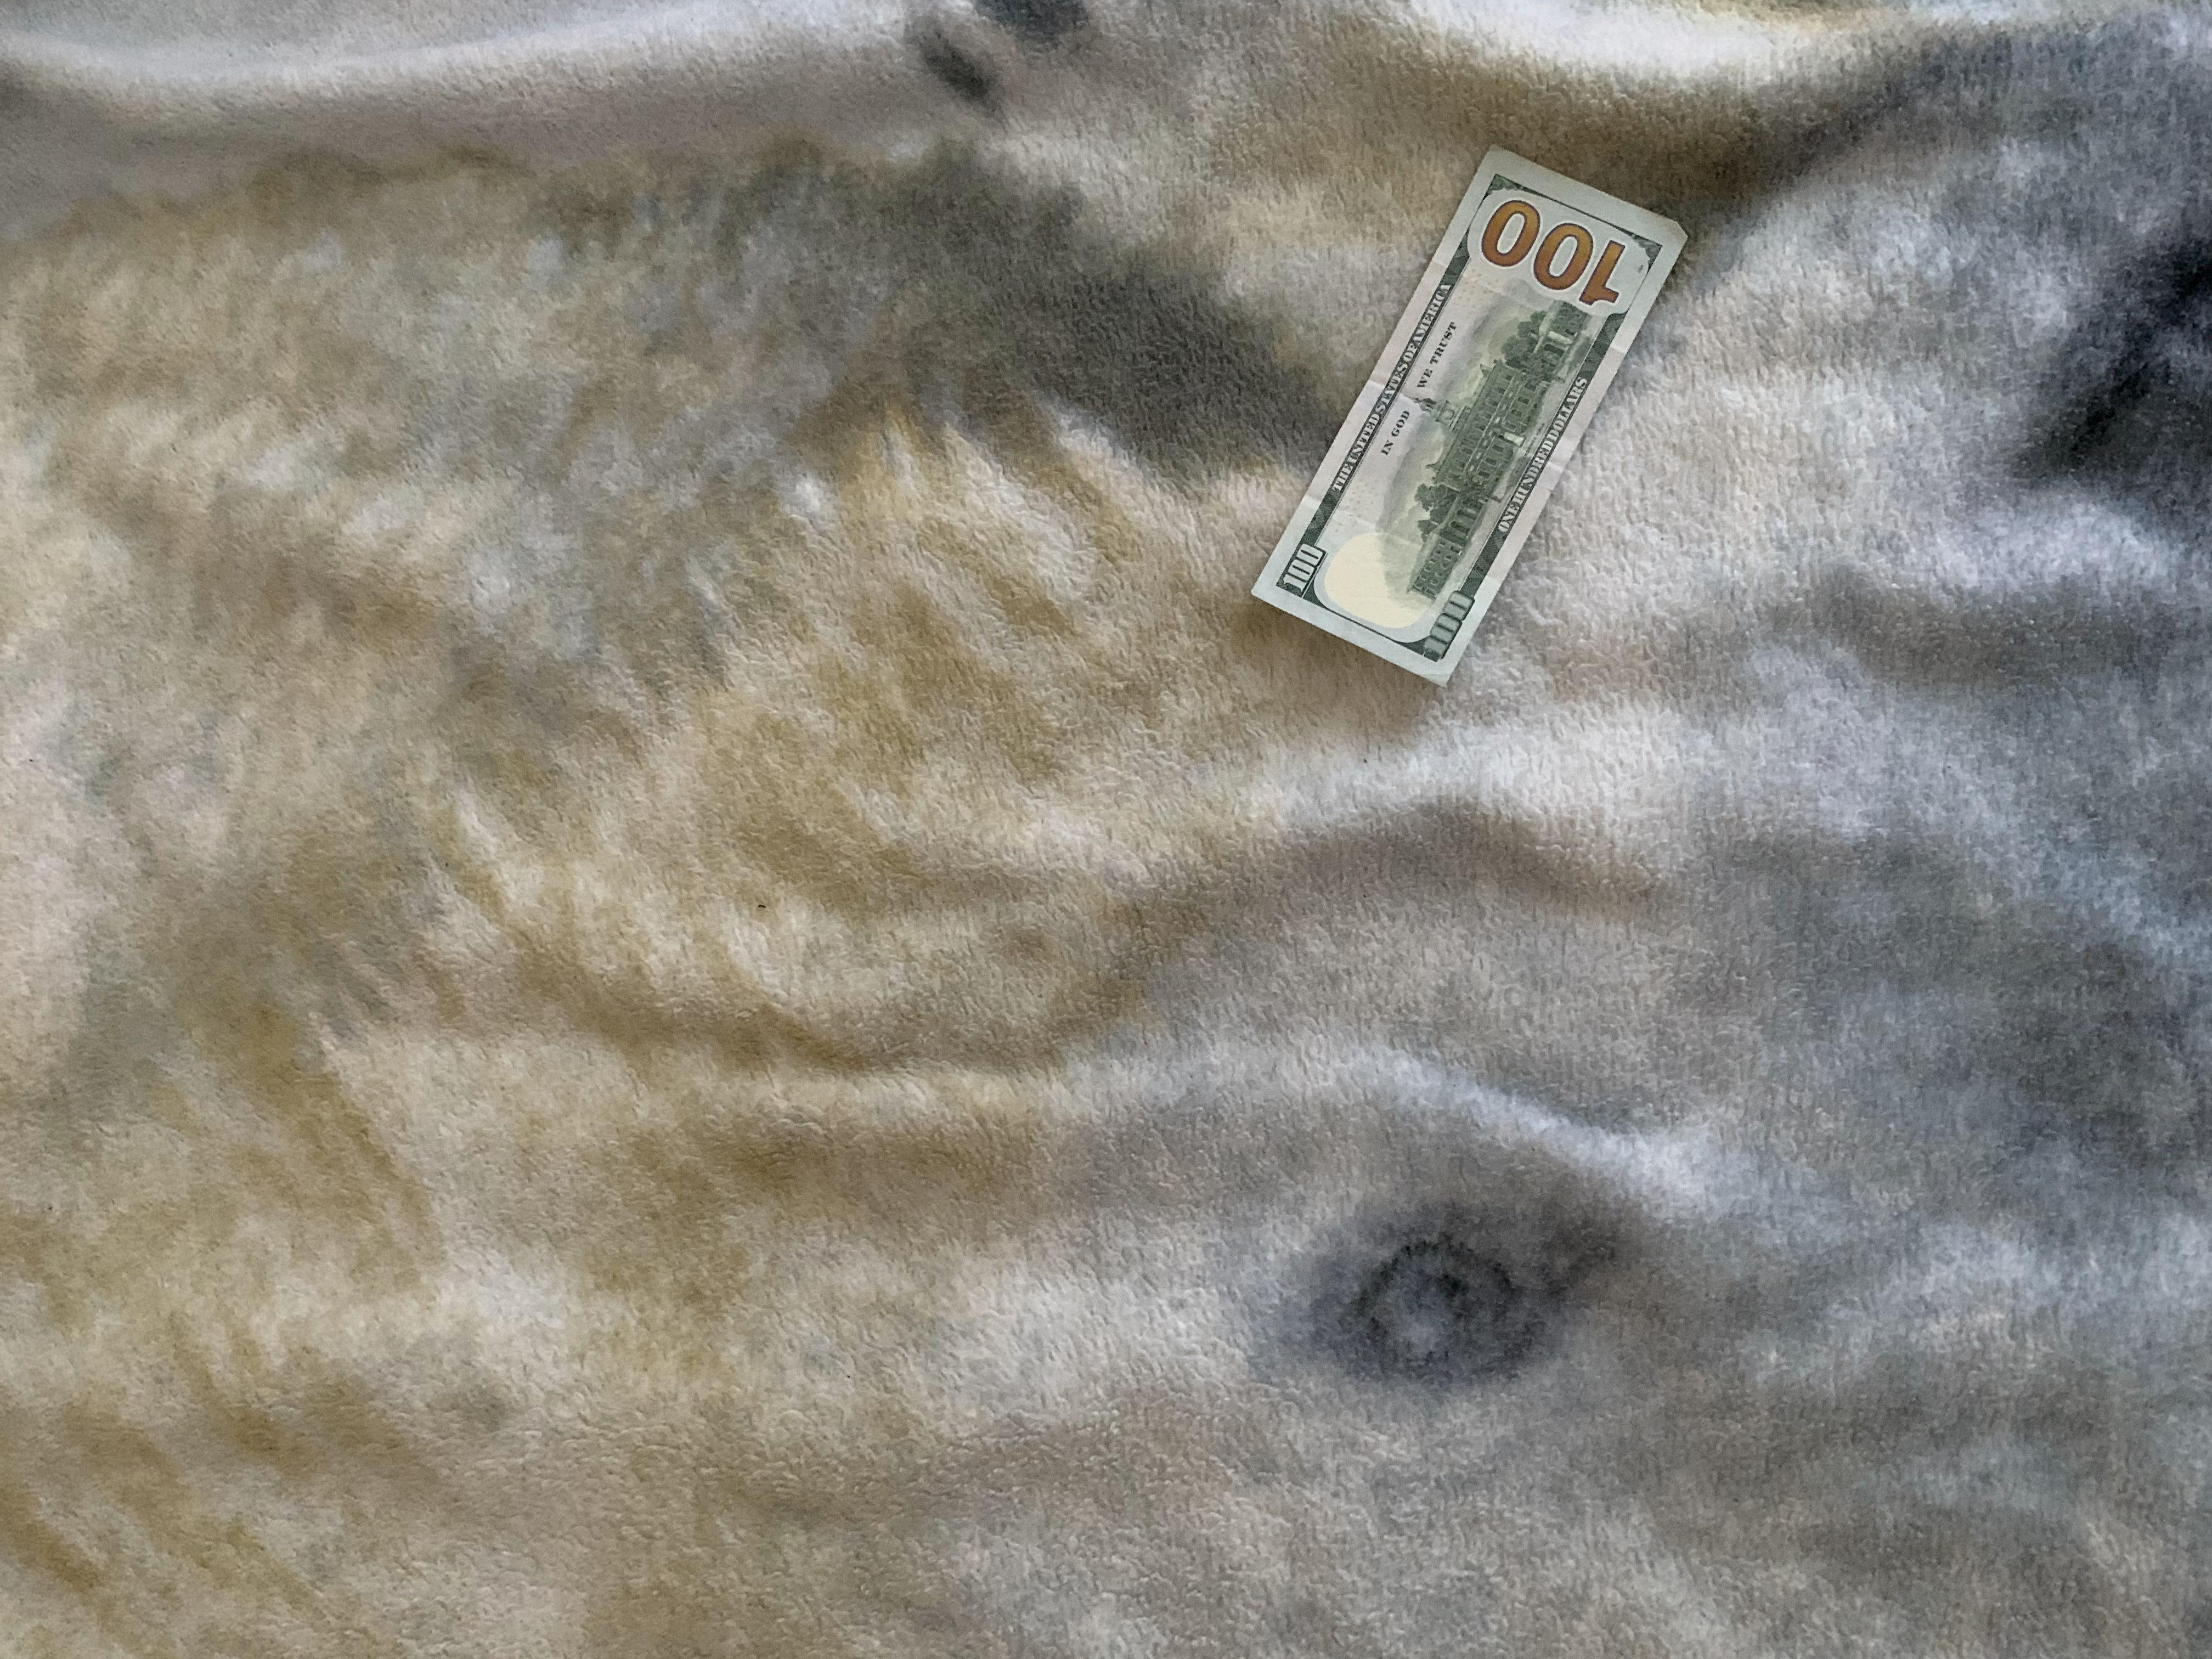HundredBill: (1245, 139, 1691, 690)
